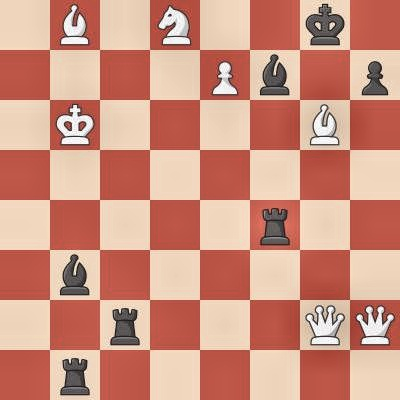black-bishop: (250, 50, 300, 100), (50, 250, 100, 300)
black-king: (300, 0, 350, 50)
black-pawn: (350, 50, 400, 100)
black-rook: (250, 200, 300, 250), (100, 300, 150, 350), (50, 350, 100, 400)
white-bishop: (50, 0, 100, 50), (300, 100, 350, 150)
white-king: (50, 100, 100, 150)
white-knight: (150, 0, 200, 50)
white-pawn: (200, 50, 250, 100)
white-queen: (300, 300, 350, 350), (350, 300, 400, 350)
